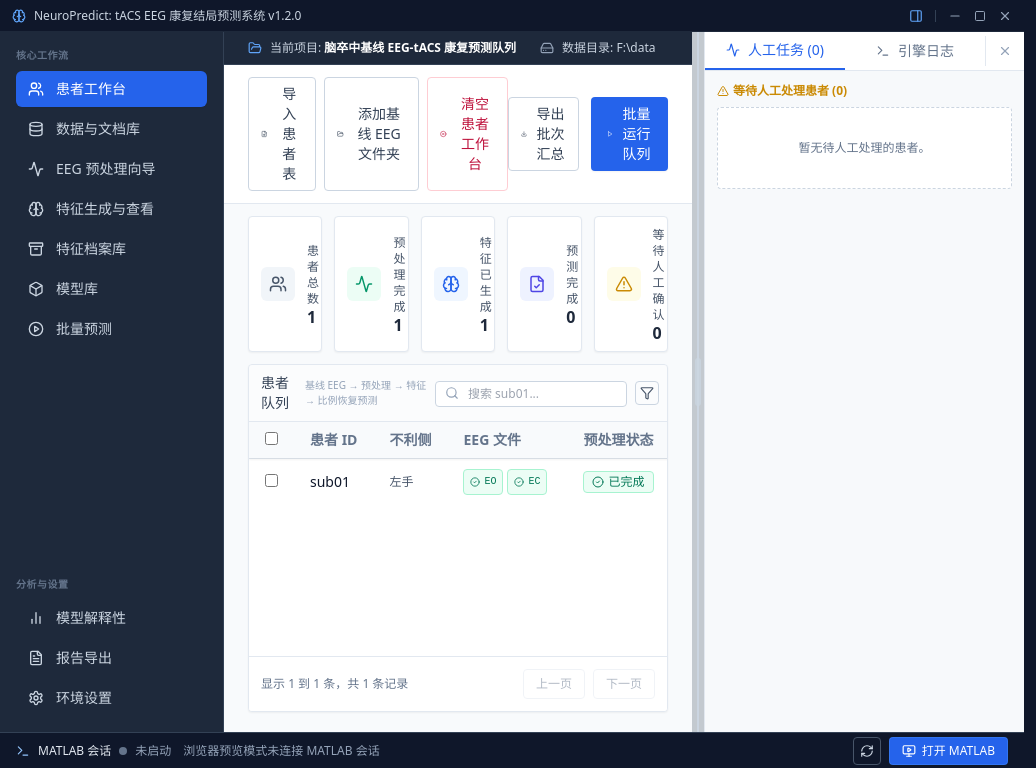
Scenario: Feature generation view › loads backend feature overview and queues a feature generation task
The width and height of the screenshot is (1036, 768).
Click the button "特征生成与查看": (112, 209) 16,191 -> 207,227
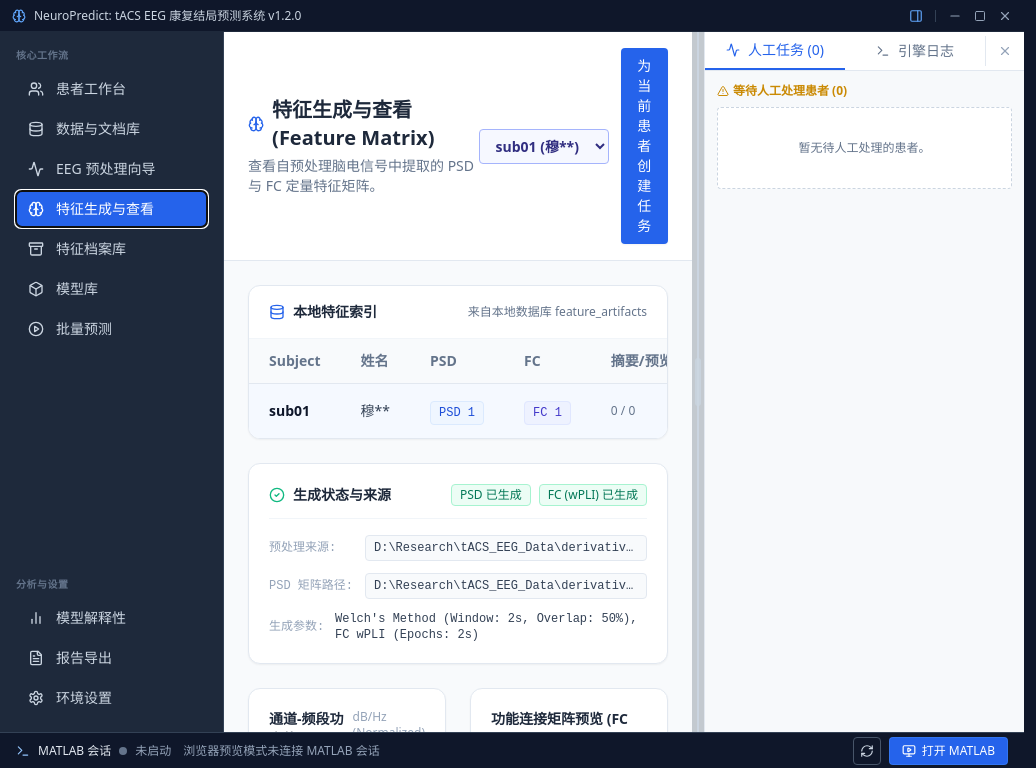
Check: the text "穆**" is shown, box 341,384 -> 410,438
Check: the text "PSD 1" is shown, box 430,401 -> 484,425
Check: the text "FC 1" is shown, box 524,401 -> 571,425
Click the button "为当前患者创建任务": (644, 146) 620,48 -> 668,244
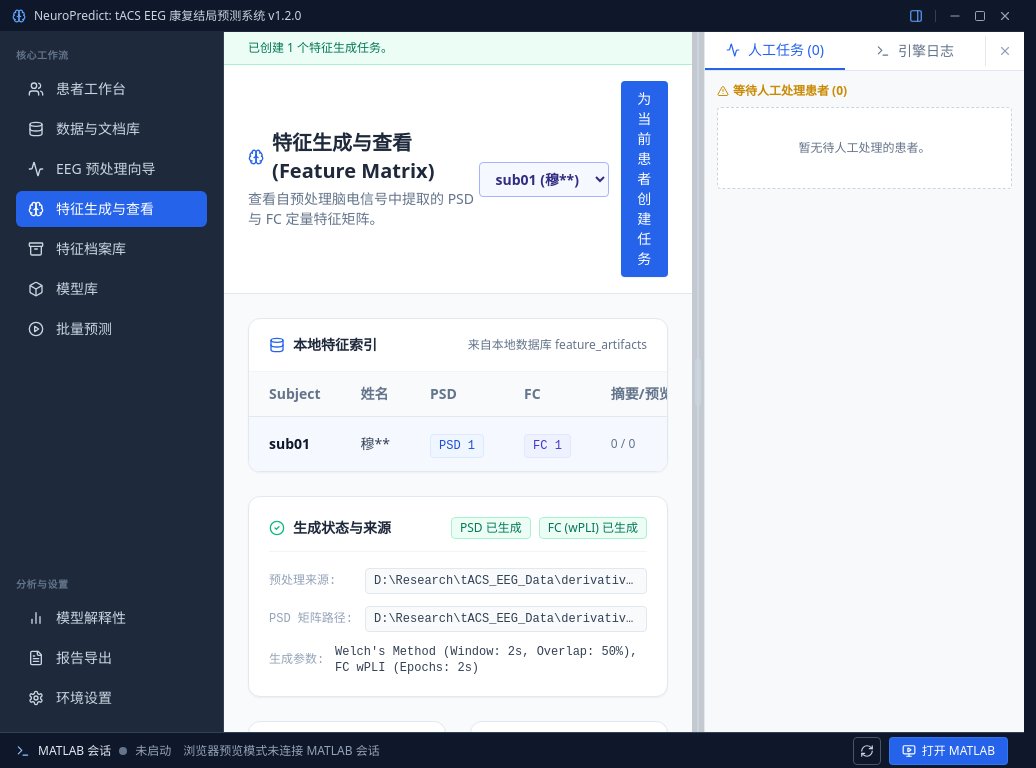
Check: the text "已创建 1 个特征生成任务。" is shown, box 224,32 -> 692,65
